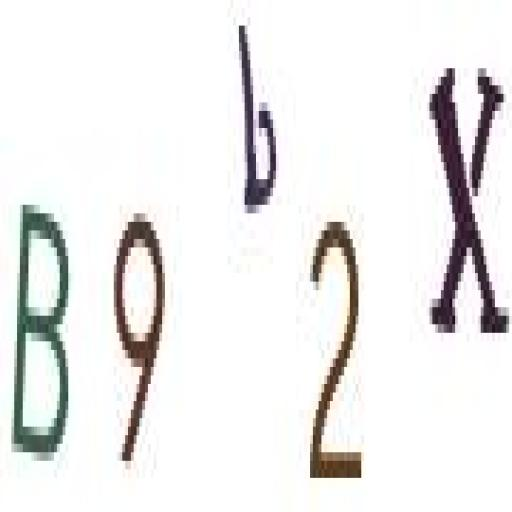2: (299, 202, 369, 512)
9: (106, 200, 171, 486)
B: (4, 185, 78, 491)
X: (424, 45, 512, 356)
b: (235, 8, 282, 220)
